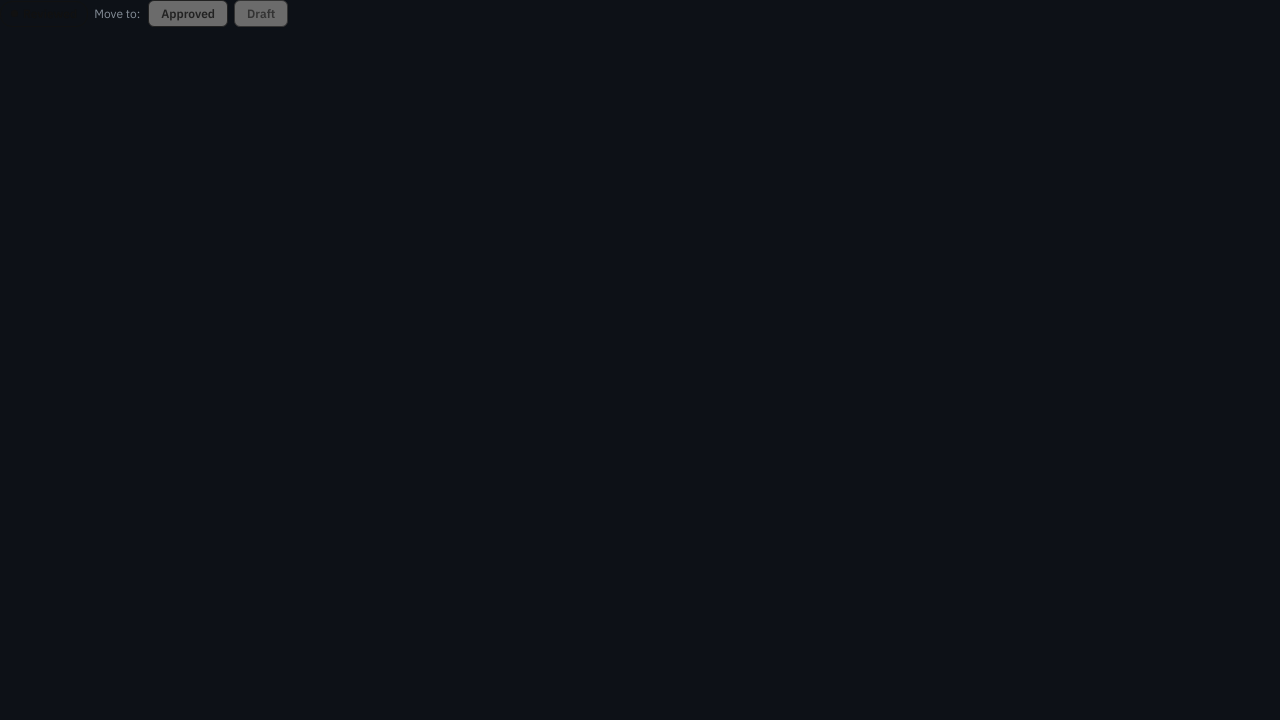
it: WorkflowStateWidget with the pop-up › asks for the missing data first, then reports the new draft
The image size is (1280, 720).
Later steps or results of the test are not shown.
What coordinates should you click on to do the following:
click the button "Approved"
I would click on:
 (188, 14)
Its box is [148,0,228,27].
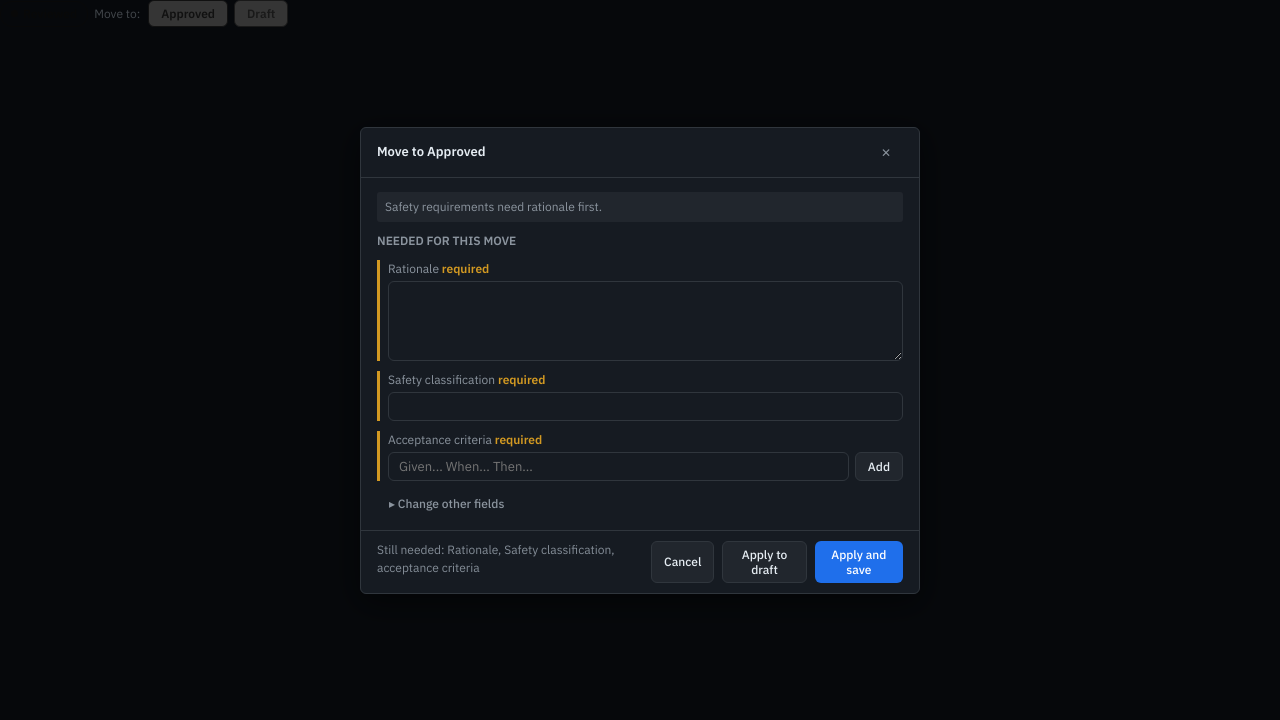
Expected: the dialog is shown, [360,126,920,594]
